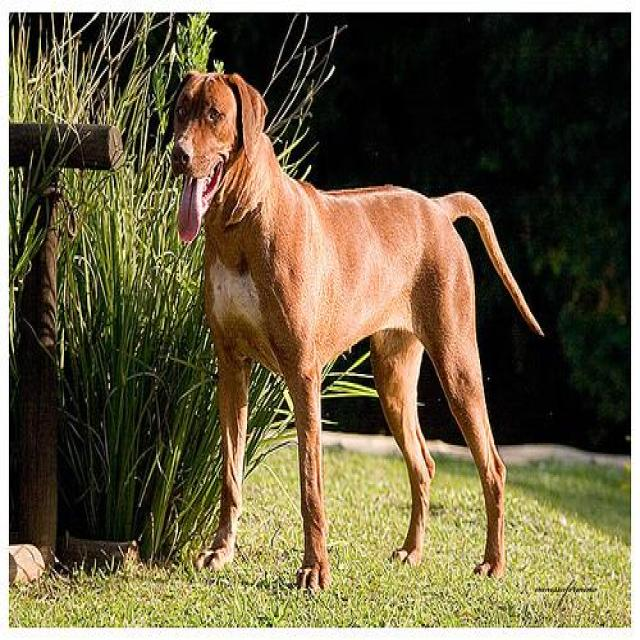rhodesian_ridgeback: (168, 59, 548, 631)
